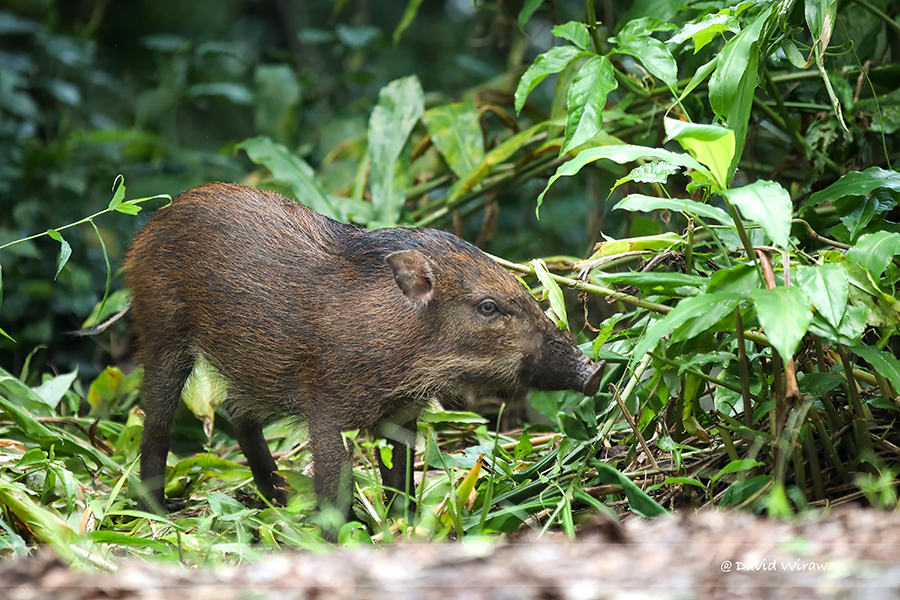boar: (114, 176, 611, 523)
